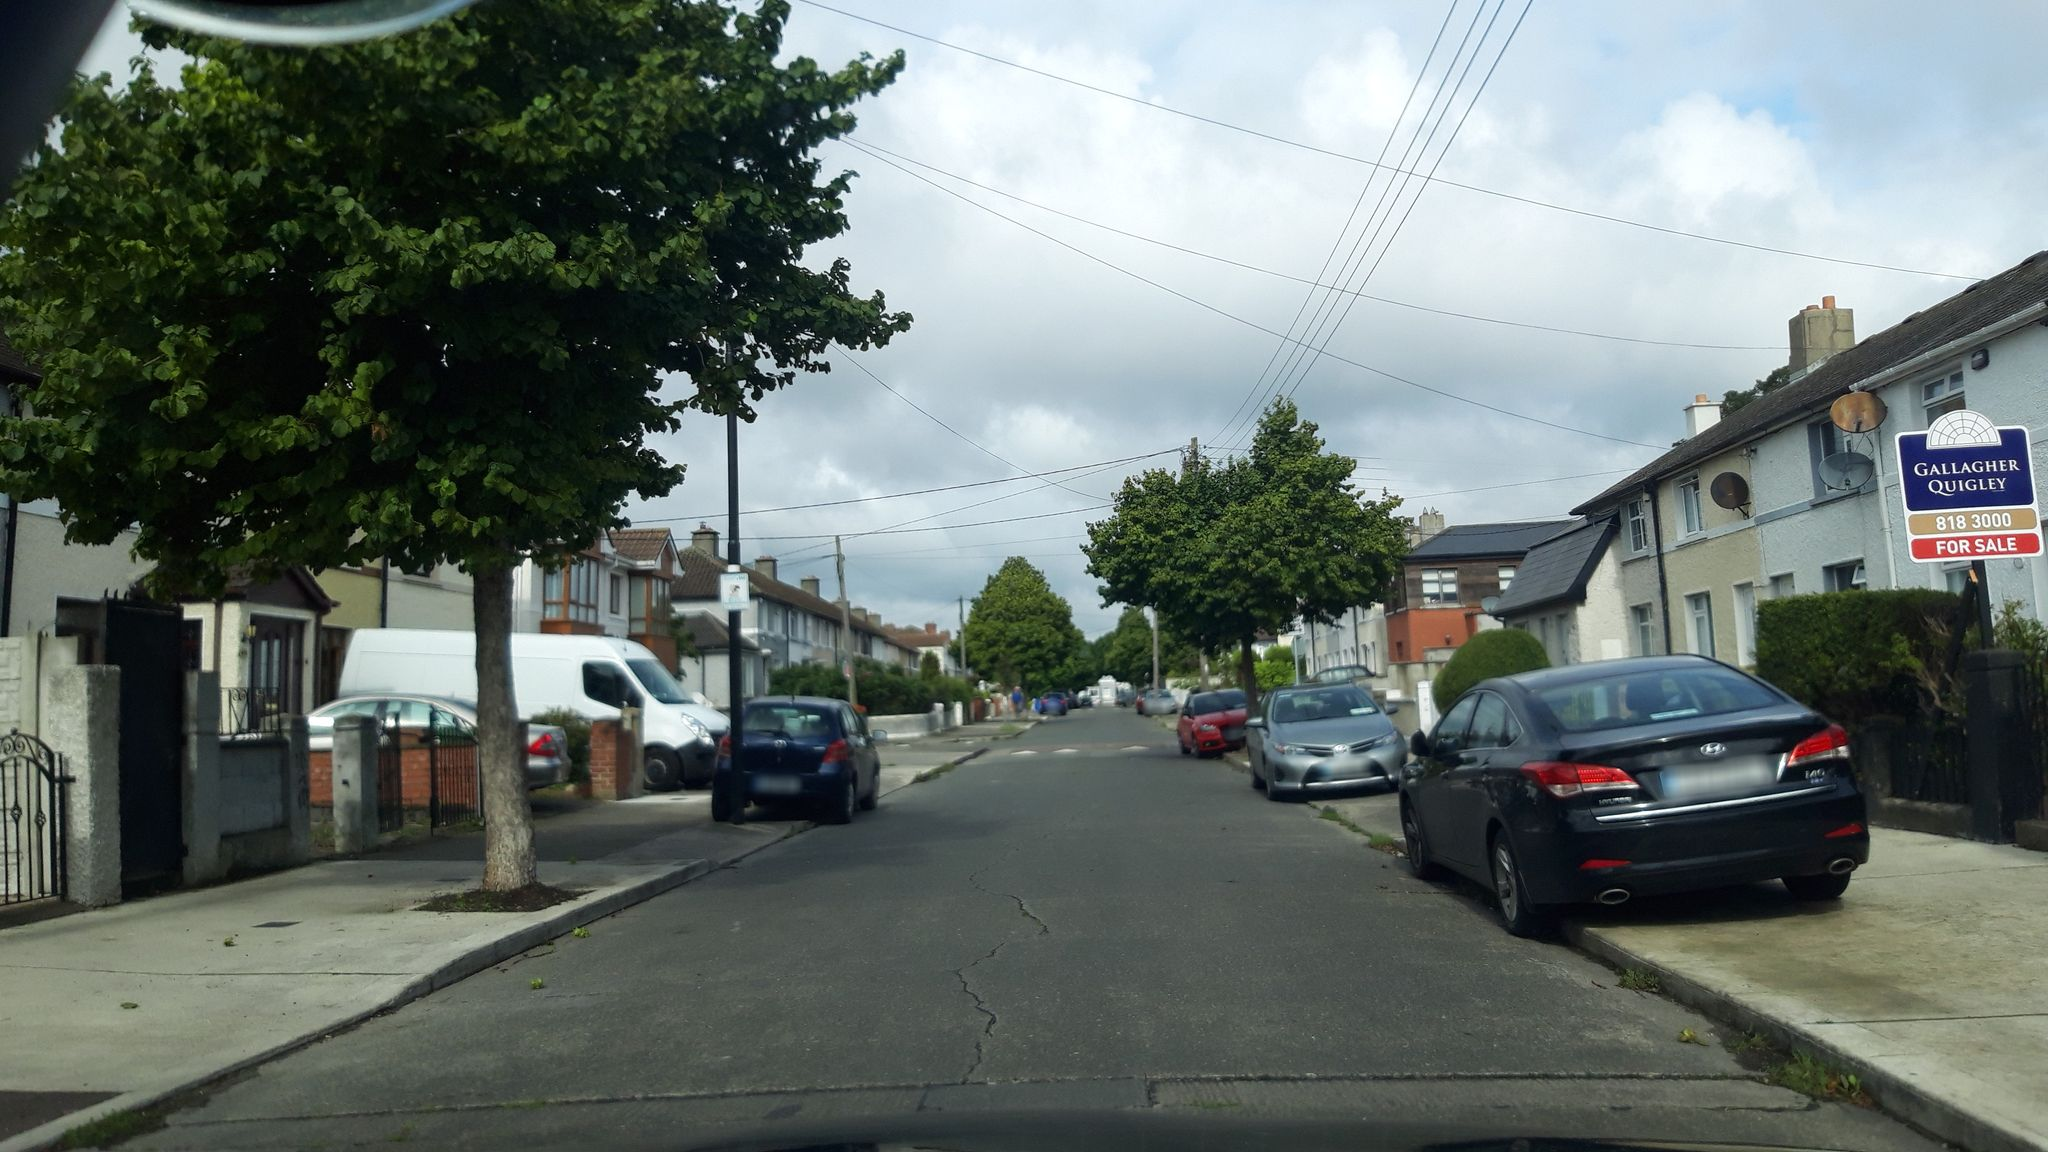property sign: (1878, 397, 2048, 580)
